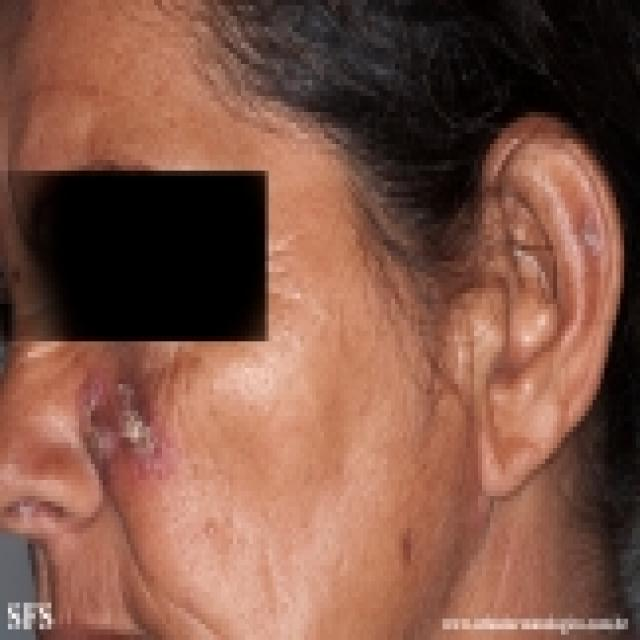lupus: (77, 342, 206, 476)
